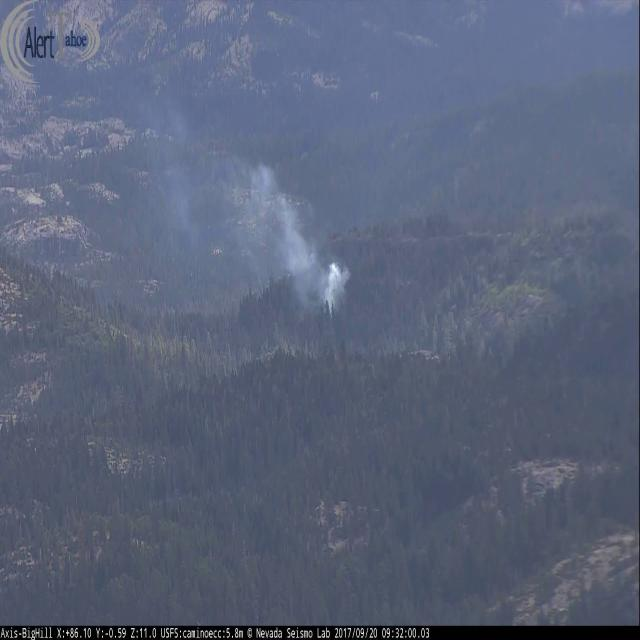smoke: (162, 105, 351, 318)
